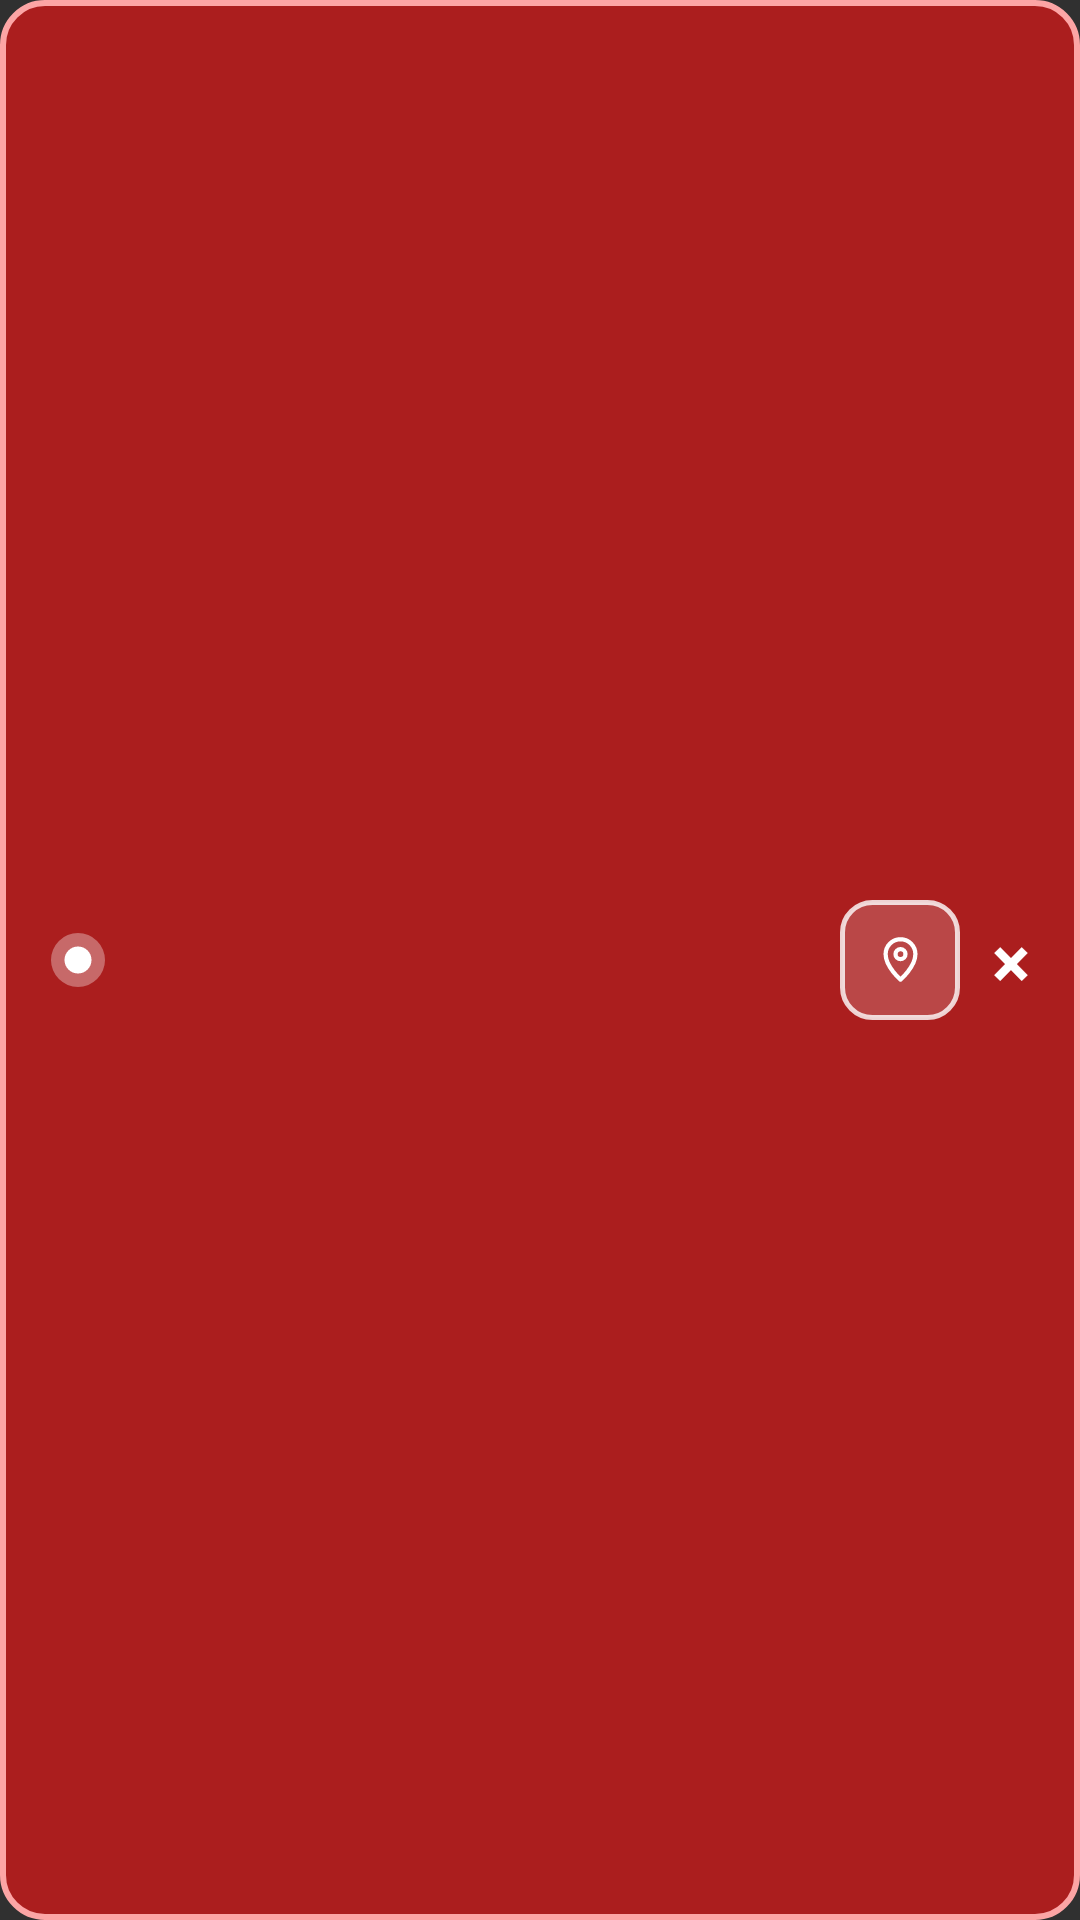

Icon bounding boxes for this 1080×1920 phone screenshot, format BBox(x1, y1, x2, y2):
Ver ubicacion de la alerta: BBox(840, 900, 960, 1020)
